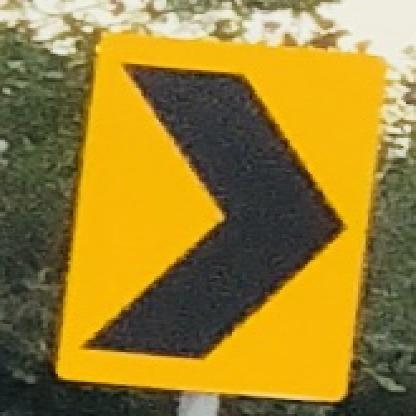Sharp Right Turn: (50, 33, 386, 402)
